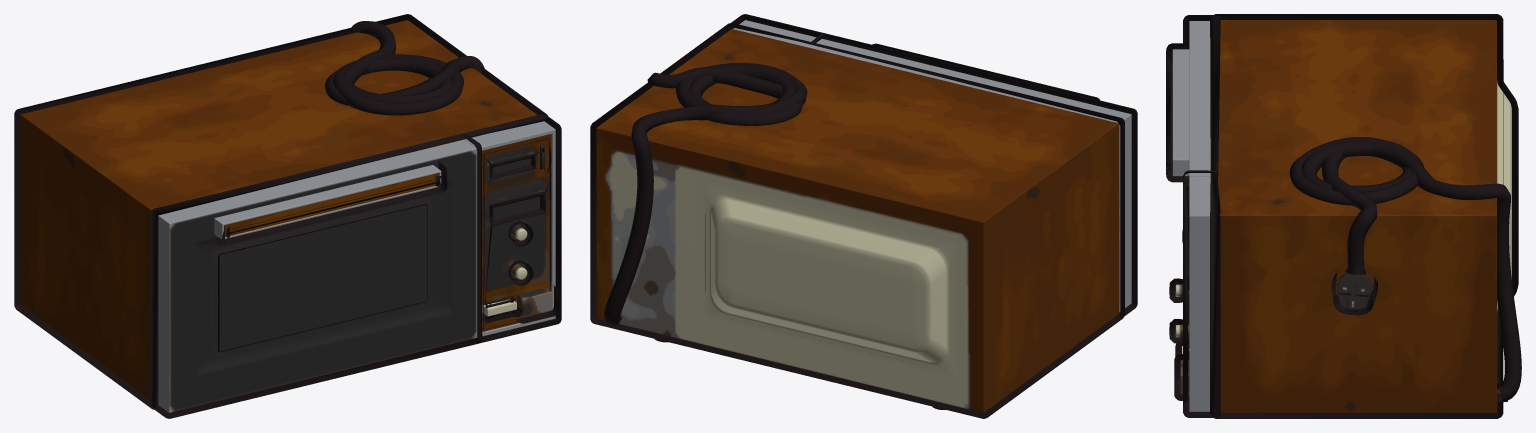
Rendered from SM_Int_Microwave.fbx.
The picture shows the model from 3 angles, left to right: view 1: azimuth 30°, elevation 25°; view 2: azimuth 150°, elevation 25°; view 3: azimuth 270°, elevation 25°; orthographic projection. The views are drawn at different scales.
Visible parts, largest first — view 1: SM_Int_Microwave; view 2: SM_Int_Microwave; view 3: SM_Int_Microwave.
Boxes of the visible parts, x1,y1,x2,y2 form: SM_Int_Microwave: (14, 14, 561, 418); SM_Int_Microwave: (590, 14, 1137, 418); SM_Int_Microwave: (1166, 14, 1521, 418).
Size of what is drawn, in the model's own units: 0.6282 by 0.3159 by 0.4413.
